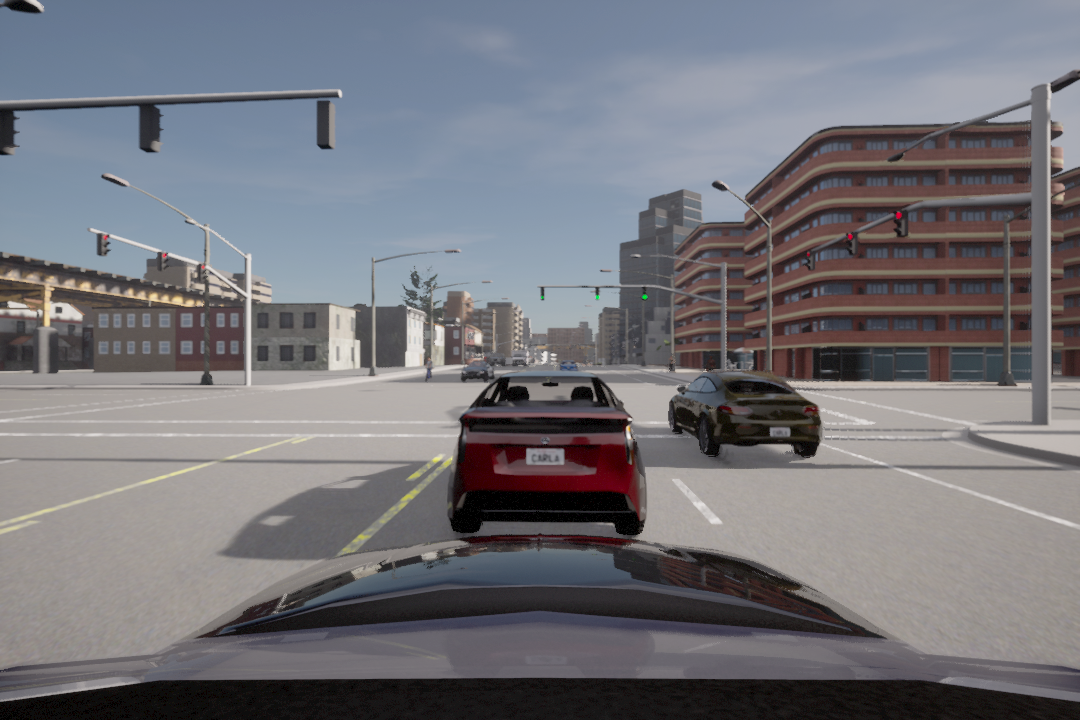TrafficLight: (889, 207, 910, 243), (95, 231, 111, 261), (841, 227, 854, 259), (800, 247, 816, 271), (194, 261, 210, 284), (155, 251, 169, 273), (639, 284, 647, 305), (538, 287, 546, 303), (593, 286, 601, 302)
